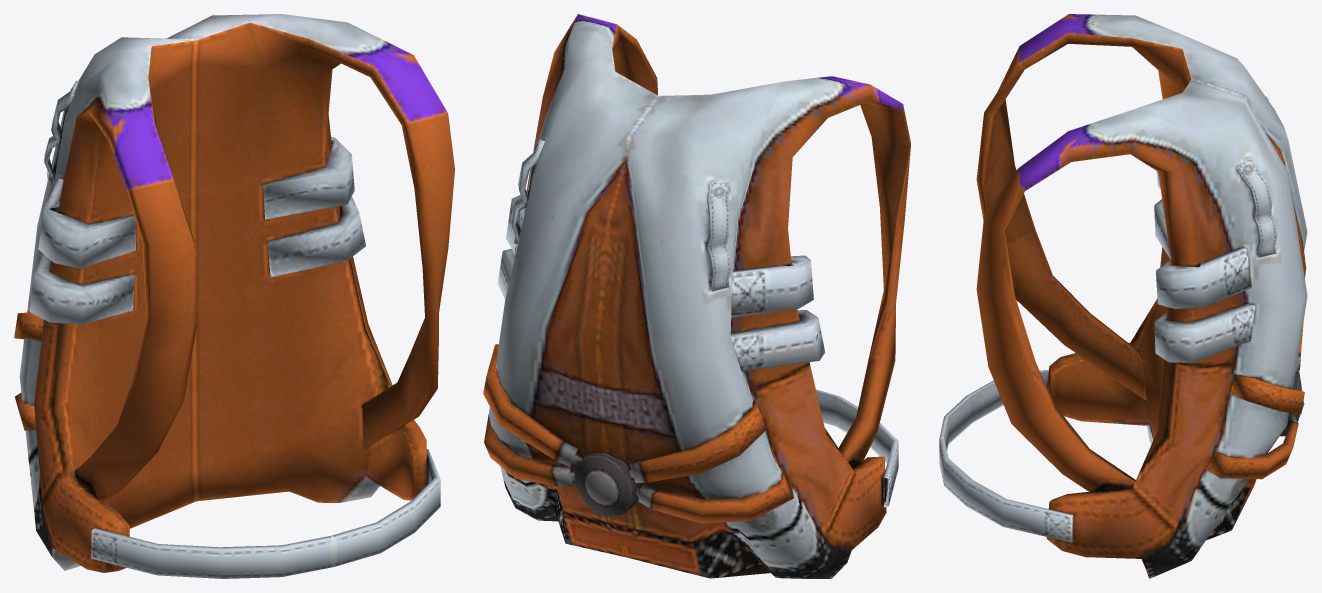
The model's file is parachute.fbx.
3 views of the same model, side by side, from view 1: azimuth 30°, elevation 25°; view 2: azimuth 150°, elevation 25°; view 3: azimuth 270°, elevation 25° (orthographic). The views are drawn at different scales.
Parts seen in each view (by area): view 1: node_id293; view 2: node_id293; view 3: node_id293.
Boxes of the visible parts, <box> form: node_id293: <box>14,14,454,578</box>; node_id293: <box>483,14,910,578</box>; node_id293: <box>939,14,1307,578</box>.
Size of the model in its own units: 0.3676 by 0.512 by 0.3802.
Materials: 1 (1 with a texture image).
